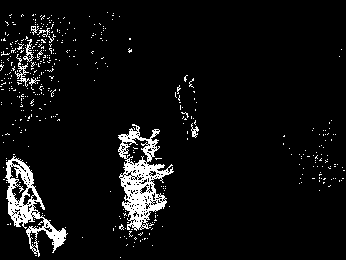person: (174, 72, 200, 141)
